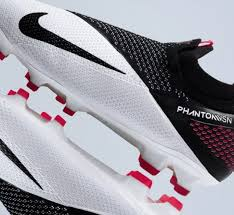nike: (15, 6, 128, 82)
